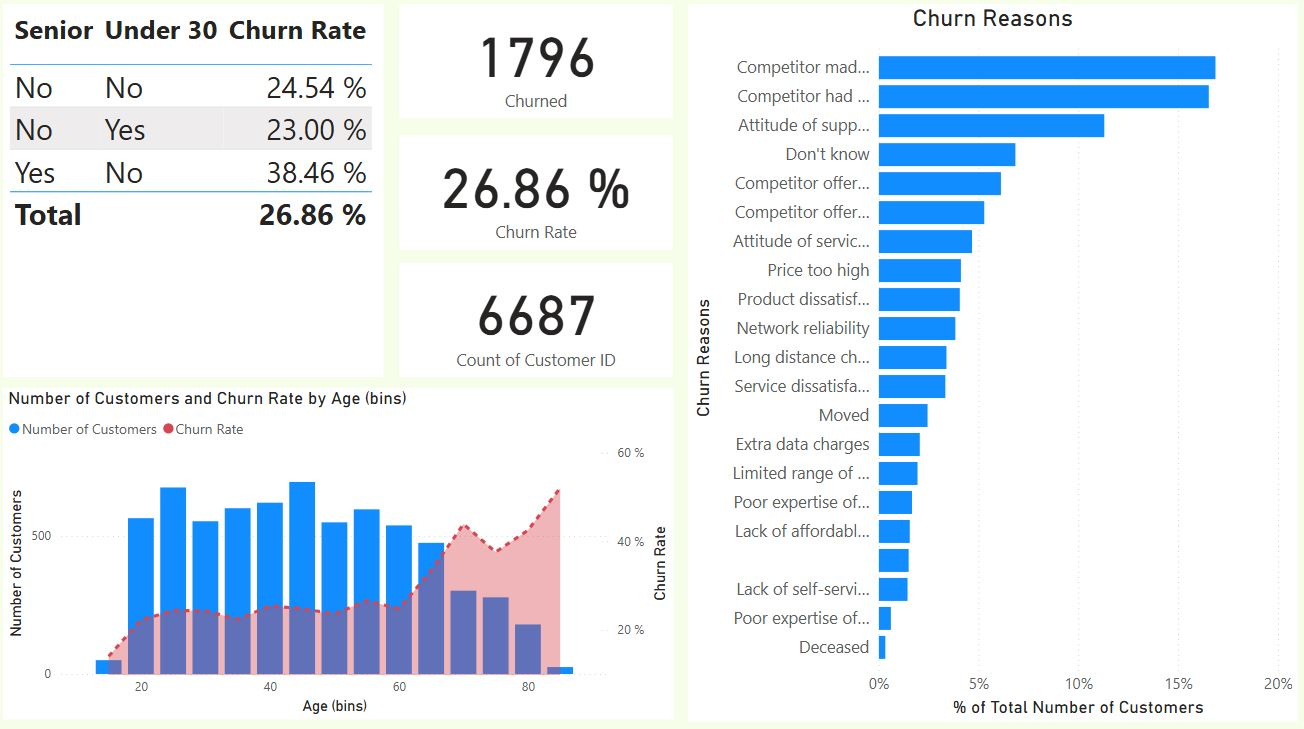

Layout of this report page (visuals, bound fields, positions):
{"tool":"powerbi","page":{"name":"Churn Demographics","canvas":[1280,720],"ordinal":0},"visuals":[{"type":"tableEx","fields":{"Values":["Databel - Data.Senior","Databel - Data.Under 30","Databel - Data.Churn Rate"]},"box":[14.3,14.3,367.1,360],"z":0},{"type":"clusteredBarChart","title":"Churn Reasons","fields":{"Category":["Databel - Data.Churn Reason"],"Y":["CountNonNull(Databel - Data.Number of Customers in Group)"]},"box":[675.7,14.3,588.6,692.9],"z":1000},{"type":"card","fields":{"Values":["Databel - Data.Churn Rate"]},"box":[397.1,141.4,264.3,110],"z":2000},{"type":"lineStackedColumnComboChart","fields":{"Y":["Databel - Data.Number of costumers"],"Y2":["Databel - Data.Churn Rate"],"Category":["Databel - Data.Age (bins)"]},"box":[14.3,384.3,647.1,320],"z":3000},{"type":"card","fields":{"Values":["Count(Databel - Data.Customer ID)"]},"box":[397.1,264.3,264.3,110],"z":4000},{"type":"card","fields":{"Values":["Sum(Databel - Data.Churned)"]},"box":[397.1,14.3,264.3,110],"z":5000}]}

Visuals, with their boxes in screenshot pixels (x1, y1, x2, y2), scaled from the page's 1280x720 canvas onto the 1304x729 screenshot:
tableEx - Databel - Data.Senior x Databel - Data.Under 30: BBox(15, 14, 389, 379)
"Churn Reasons" clusteredBarChart: BBox(688, 14, 1288, 716)
card - Databel - Data.Churn Rate: BBox(405, 143, 674, 255)
lineStackedColumnComboChart - Databel - Data.Number of costumers x Databel - Data.Churn Rate: BBox(15, 389, 674, 713)
card - Count(Databel - Data.Customer ID): BBox(405, 268, 674, 379)
card - Sum(Databel - Data.Churned): BBox(405, 14, 674, 126)
